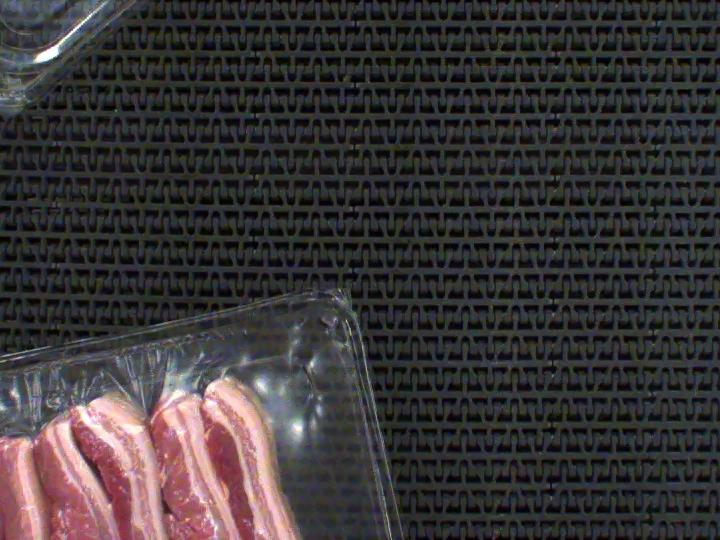unsealed: (0, 332, 388, 540)
